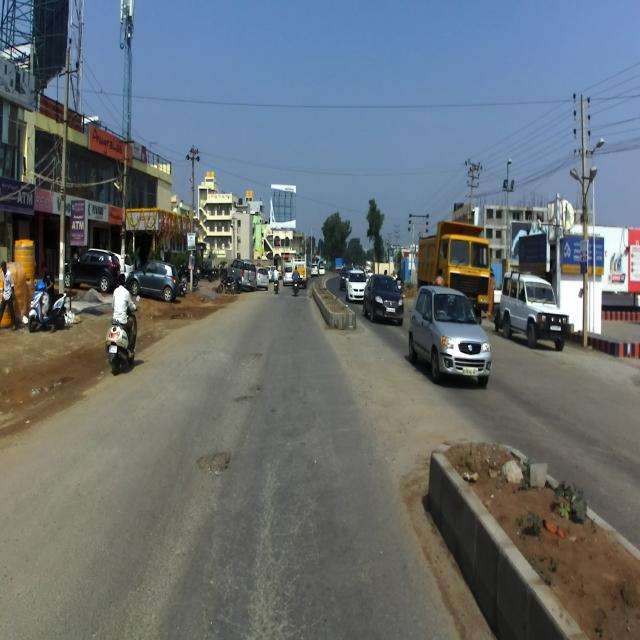car: (407, 286, 491, 389), (498, 270, 569, 350), (125, 261, 181, 302)
scooter: (104, 292, 141, 375), (26, 282, 66, 334)
truck: (416, 219, 492, 314)
